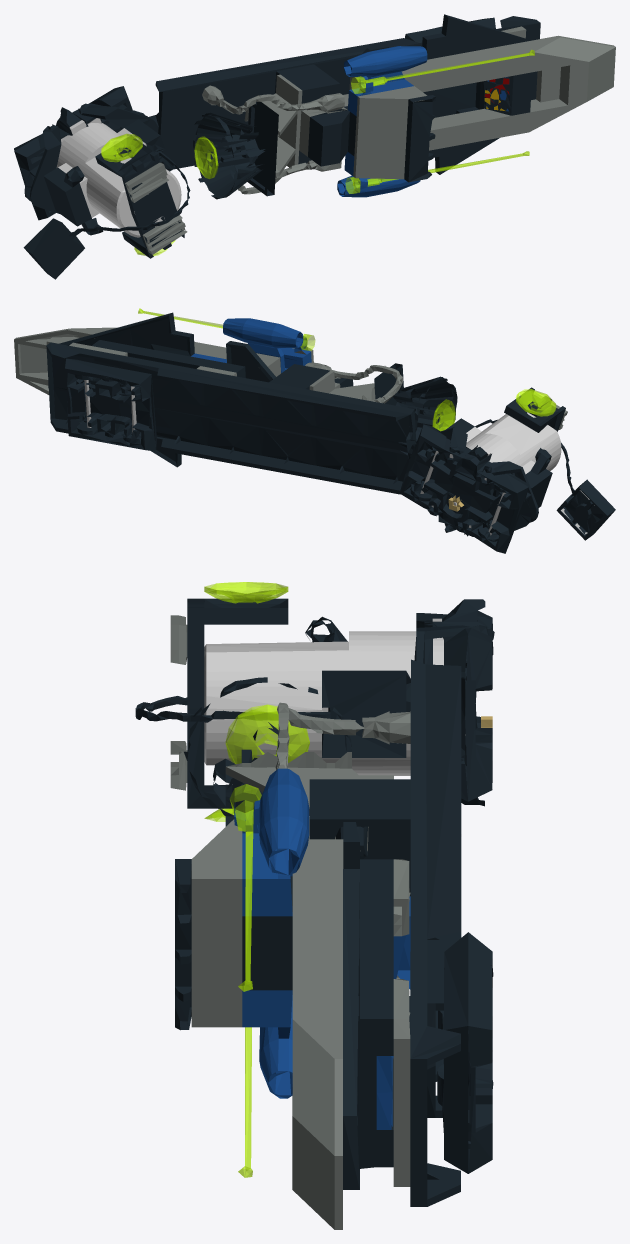
File: front-coach-with-motor-unit.glb
The picture shows the model from 3 angles, top to bottom: view 1: azimuth 30°, elevation 25°; view 2: azimuth 150°, elevation 25°; view 3: azimuth 270°, elevation 25°; orthographic projection. The views are drawn at different scales.
Bounding box in the file's own units: 255 × 62.87 × 68.31.
